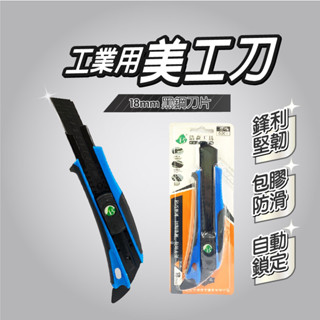cutter: (49, 96, 144, 303), (179, 141, 224, 290)
